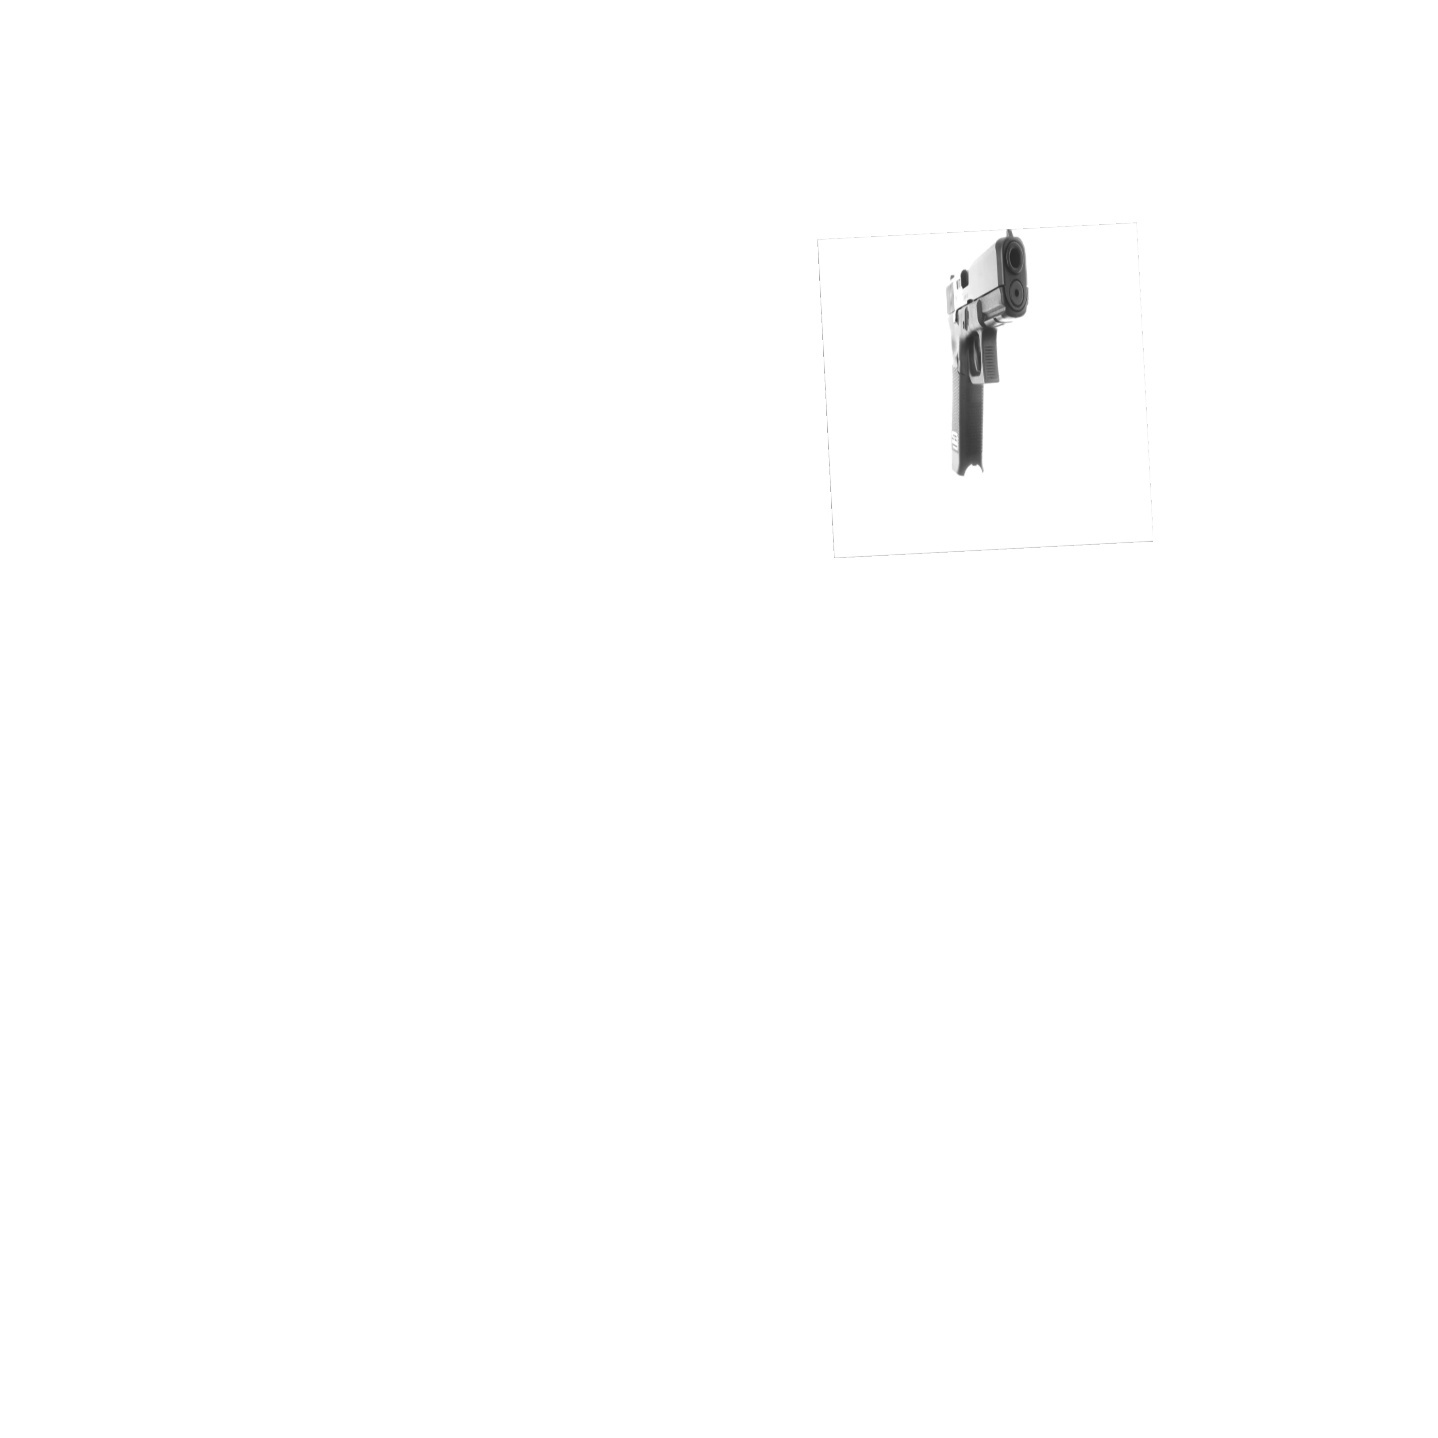gun: (943, 229, 1030, 475)
